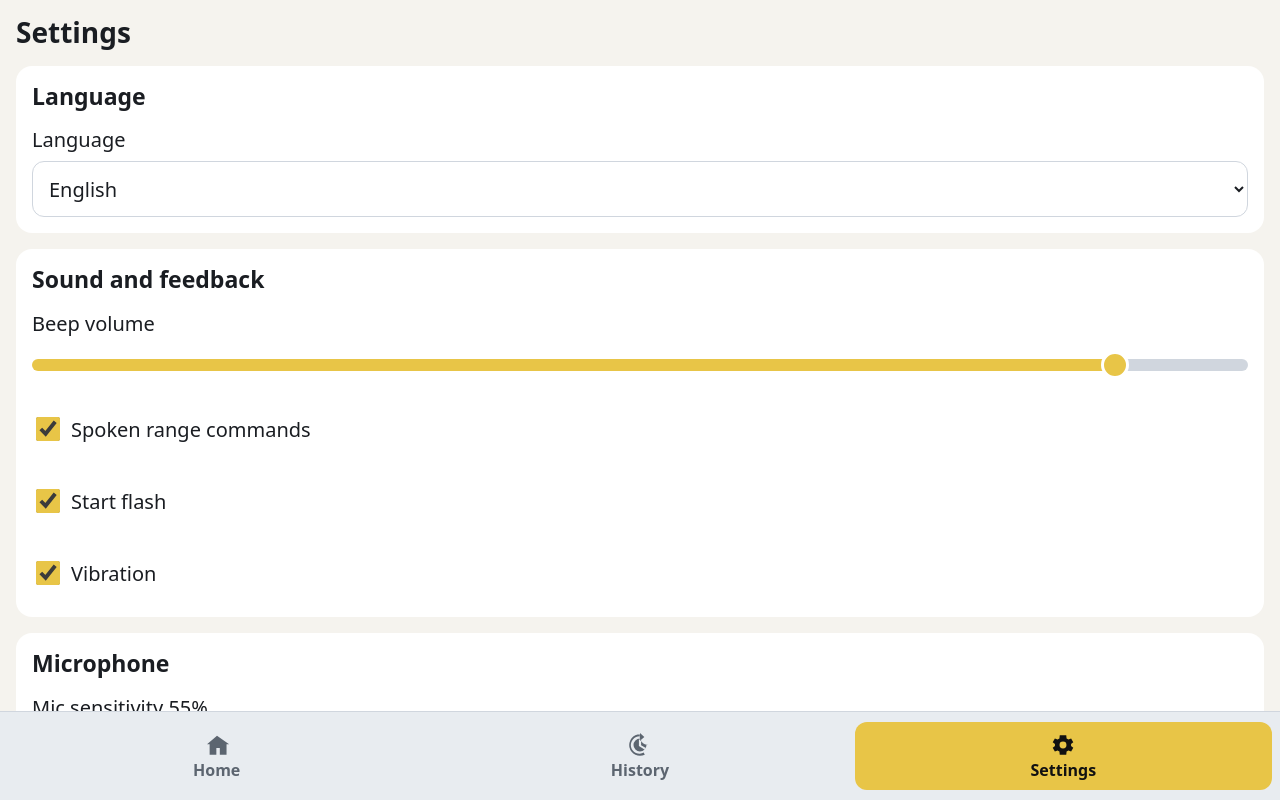
Test: pages › changes language and delay range
Select "Polski" in the dropdown with test id "language" at (640, 189), box [32, 161, 1248, 217]
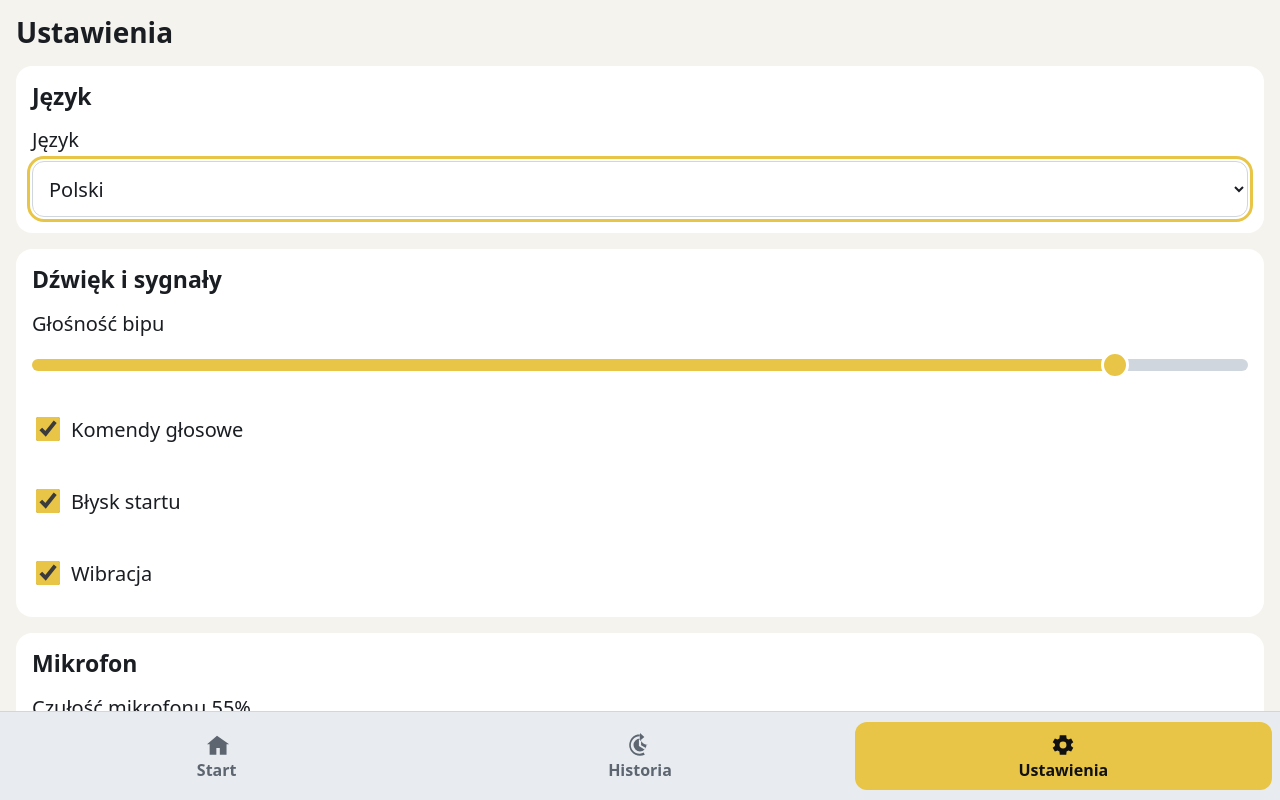
Result: the heading "Ustawienia" is shown at [16, 13, 173, 51]
